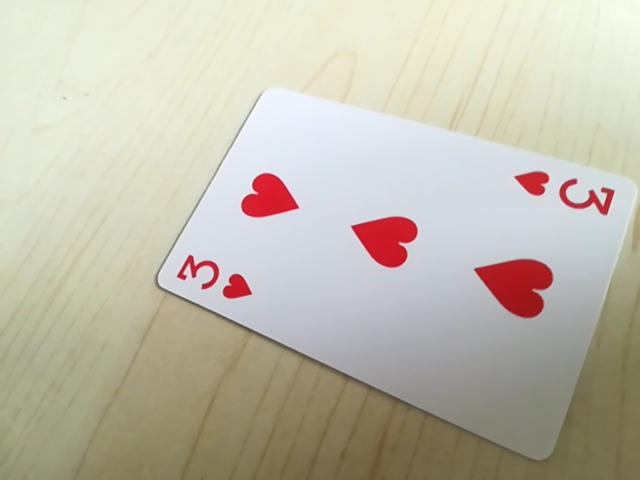hx 3: (508, 167, 618, 221), (168, 248, 258, 305)
